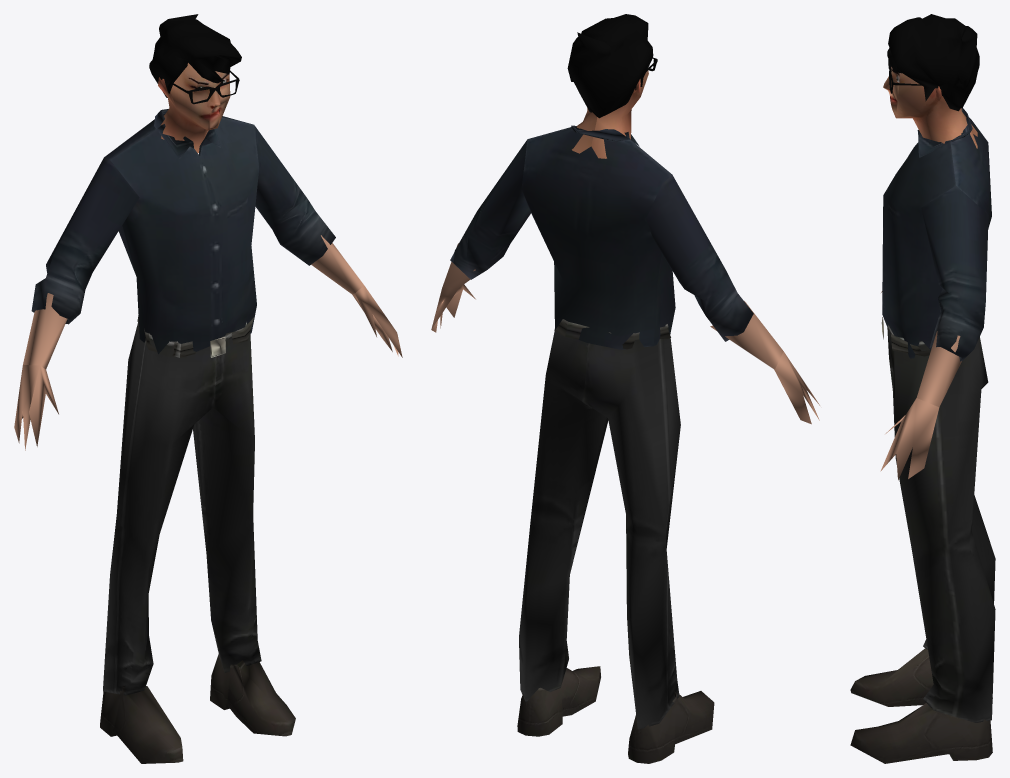
Rendered from Father.glb.
3 renders of one model, left to right at view 1: azimuth 30°, elevation 25°; view 2: azimuth 150°, elevation 25°; view 3: azimuth 270°, elevation 25°, orthographic.
Visible parts, largest first — view 1: 3d66-Editable_mesh-22237115-002, 3d66-Editable_mesh-22237115-004, 3d66-Editable_mesh-22237115-003, 3d66-Editable_mesh-22237115-008, 3d66-Editable_mesh-22237115-006, 3d66-Editable_mesh-22237115-005; view 2: 3d66-Editable_mesh-22237115-004, 3d66-Editable_mesh-22237115-002, 3d66-Editable_mesh-22237115-003, 3d66-Editable_mesh-22237115-006, 3d66-Editable_mesh-22237115-008, 3d66-Editable_mesh-22237115-005; view 3: 3d66-Editable_mesh-22237115-004, 3d66-Editable_mesh-22237115-002, 3d66-Editable_mesh-22237115-003, 3d66-Editable_mesh-22237115-006, 3d66-Editable_mesh-22237115-008, 3d66-Editable_mesh-22237115-005.
Part boxes in pixels (bbox=[...]): 3d66-Editable_mesh-22237115-002: bbox=[31, 109, 335, 354]; 3d66-Editable_mesh-22237115-004: bbox=[103, 315, 261, 695]; 3d66-Editable_mesh-22237115-003: bbox=[100, 654, 295, 763]; 3d66-Editable_mesh-22237115-008: bbox=[14, 235, 402, 450]; 3d66-Editable_mesh-22237115-006: bbox=[149, 14, 241, 97]; 3d66-Editable_mesh-22237115-005: bbox=[158, 63, 230, 153]; 3d66-Editable_mesh-22237115-004: bbox=[519, 319, 680, 729]; 3d66-Editable_mesh-22237115-002: bbox=[450, 125, 753, 349]; 3d66-Editable_mesh-22237115-003: bbox=[517, 666, 714, 763]; 3d66-Editable_mesh-22237115-006: bbox=[567, 14, 653, 118]; 3d66-Editable_mesh-22237115-008: bbox=[431, 243, 819, 424]; 3d66-Editable_mesh-22237115-005: bbox=[572, 70, 648, 158]; 3d66-Editable_mesh-22237115-004: bbox=[881, 317, 995, 722]; 3d66-Editable_mesh-22237115-002: bbox=[882, 108, 991, 361]; 3d66-Editable_mesh-22237115-003: bbox=[850, 648, 992, 763]; 3d66-Editable_mesh-22237115-006: bbox=[887, 14, 979, 111]; 3d66-Editable_mesh-22237115-008: bbox=[880, 291, 961, 480]; 3d66-Editable_mesh-22237115-005: bbox=[883, 67, 977, 148].
Size of the model in its own units: 1.32 by 2.37 by 0.4429.
Materials: 9 (6 with a texture image).
